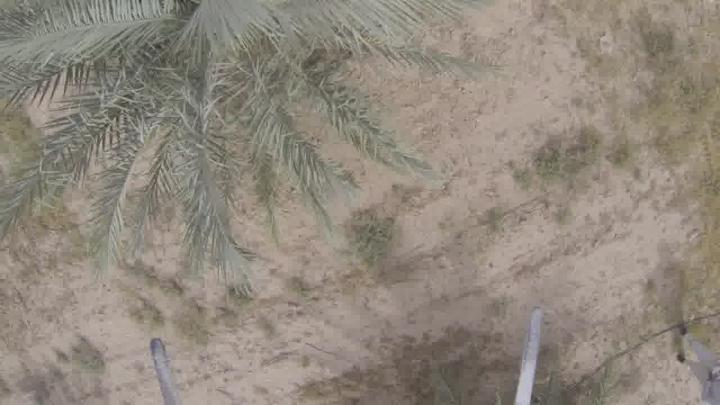Date-Palm-Crown: (53, 1, 327, 113)
